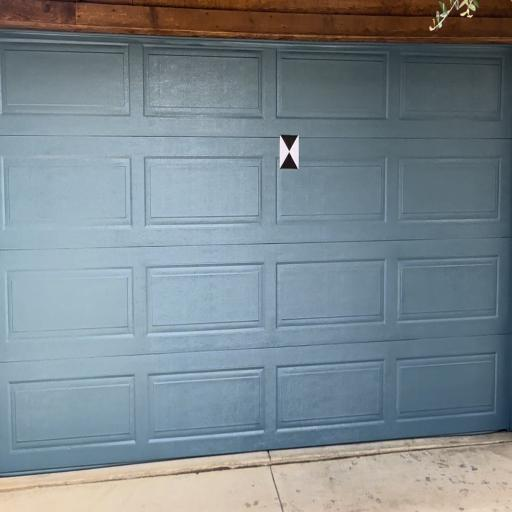target: (279, 135, 300, 169)
